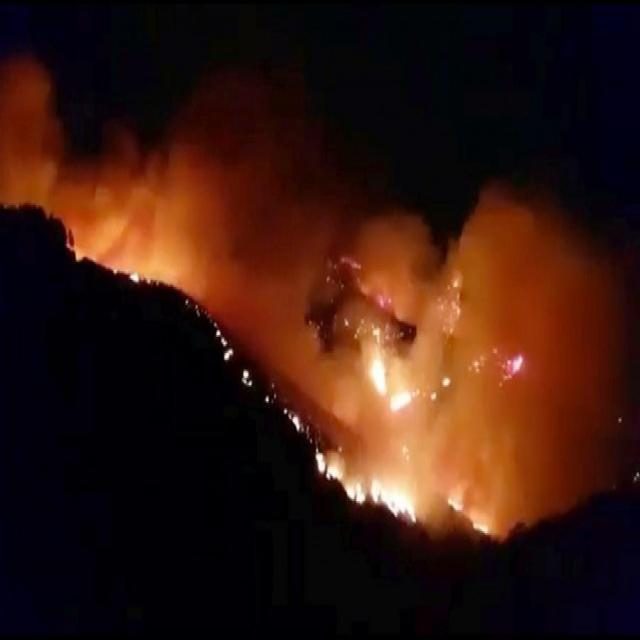Fire: (278, 262, 530, 544), (186, 284, 257, 383), (74, 248, 146, 286)
Smoke: (78, 87, 327, 233), (537, 229, 640, 532), (3, 65, 61, 218)
